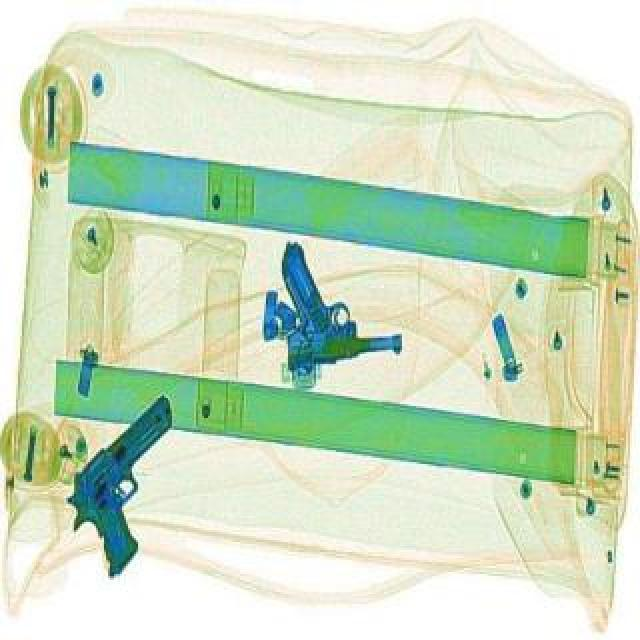gun: (32, 388, 242, 576), (270, 230, 404, 368)
